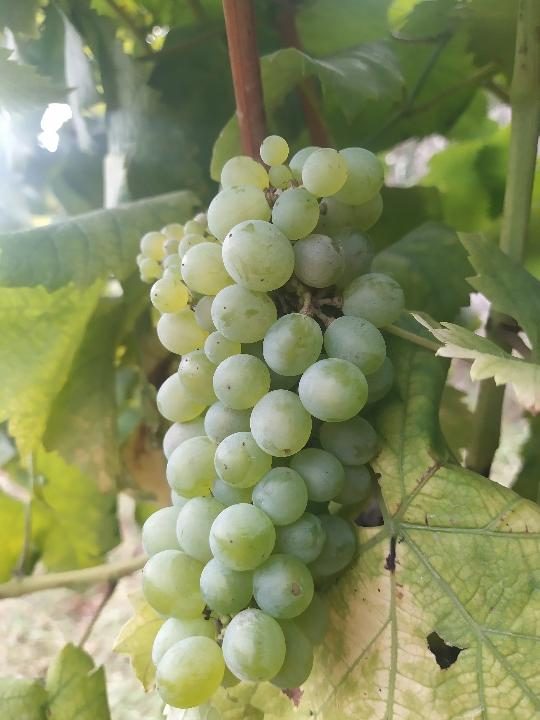grape: (132, 132, 407, 711)
